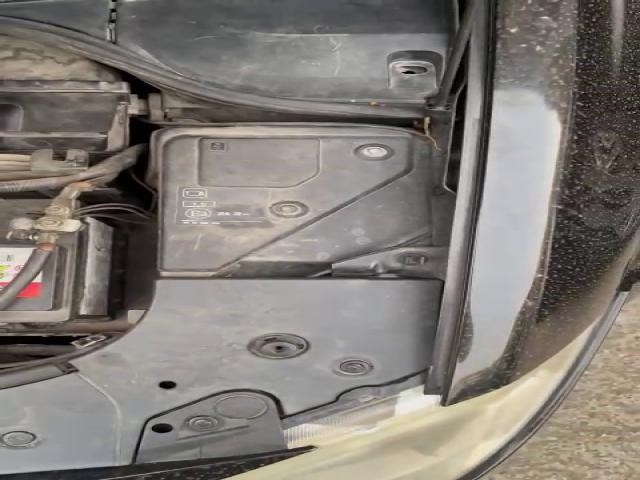accumulator: (0, 199, 120, 323)
fuse_box: (158, 136, 427, 272)
